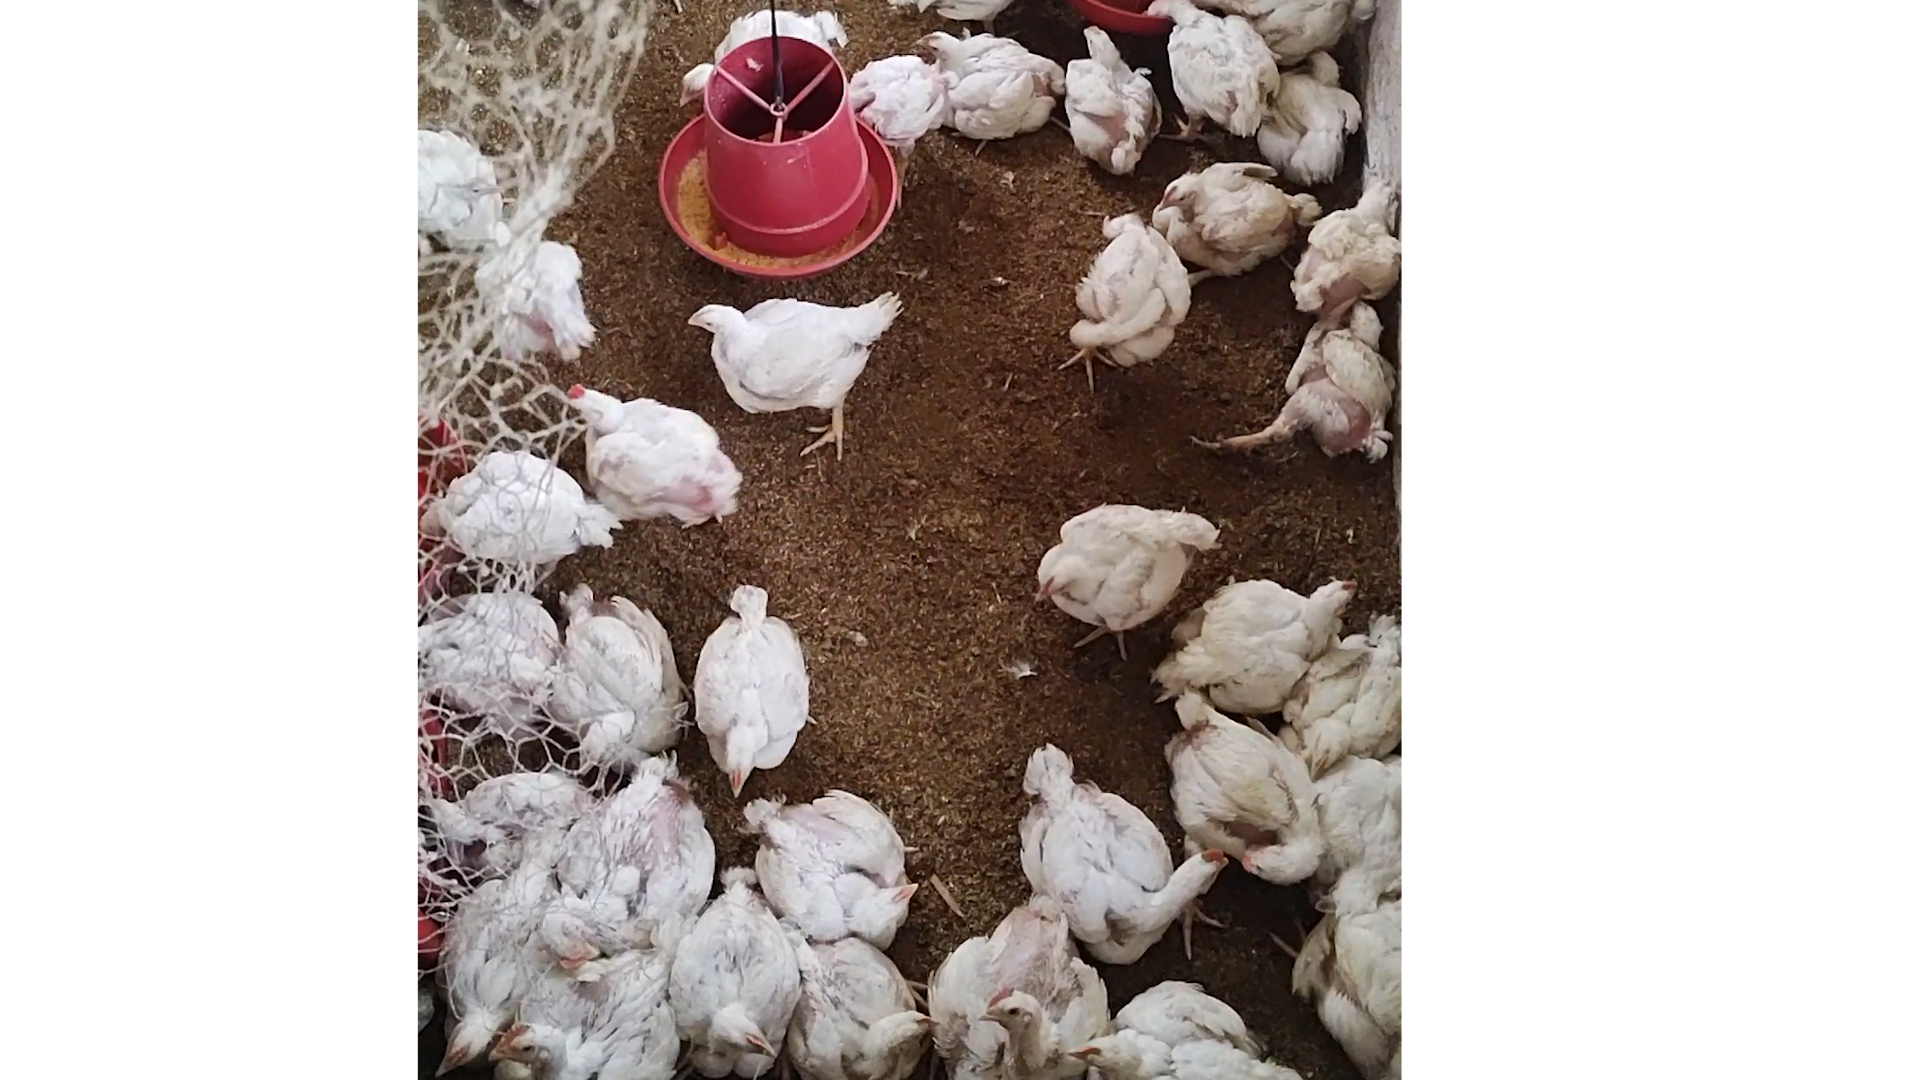Pollos: (1009, 746, 1229, 956), (533, 745, 717, 971), (682, 285, 903, 464), (1011, 495, 1216, 666), (928, 887, 1101, 1080), (554, 373, 756, 534), (1167, 680, 1320, 891), (429, 856, 574, 1077), (1201, 295, 1399, 455), (694, 575, 822, 807), (742, 789, 928, 945), (777, 911, 945, 1080), (495, 936, 690, 1080), (1154, 579, 1362, 711), (1065, 975, 1309, 1080), (549, 575, 673, 777), (1054, 214, 1193, 386), (671, 880, 786, 1080), (429, 439, 611, 560), (663, 0, 852, 115), (411, 587, 563, 727), (1276, 167, 1408, 324), (1153, 156, 1312, 281), (901, 21, 1060, 146), (1135, 0, 1271, 138), (1295, 613, 1411, 770), (1063, 21, 1160, 175), (1255, 47, 1364, 183), (845, 53, 960, 173)
